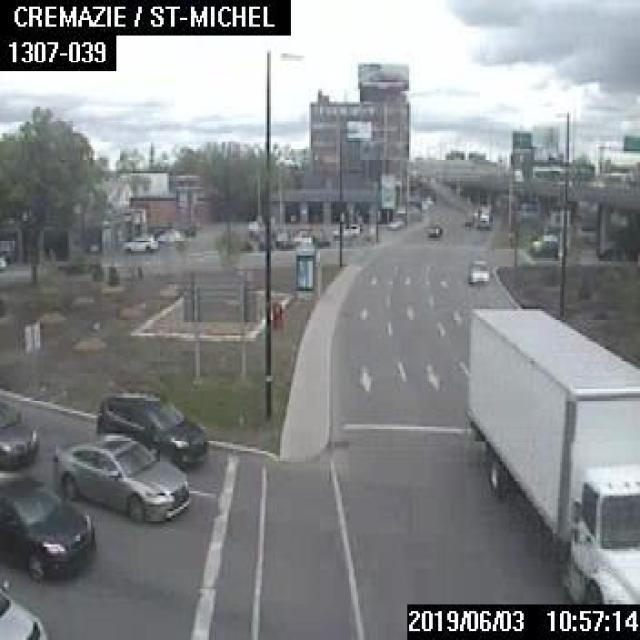vehicle: (460, 304, 638, 600), (51, 431, 187, 523), (0, 476, 95, 576), (95, 388, 206, 467), (0, 573, 49, 638), (0, 400, 38, 469), (529, 233, 556, 256), (121, 235, 157, 251), (466, 258, 489, 282), (473, 201, 490, 228), (330, 222, 357, 237), (425, 220, 440, 236)
